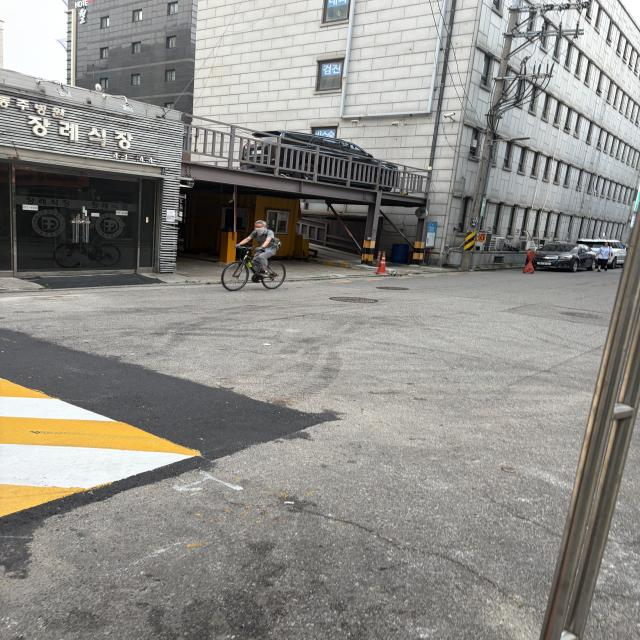bicycle: (220, 211, 290, 303)
